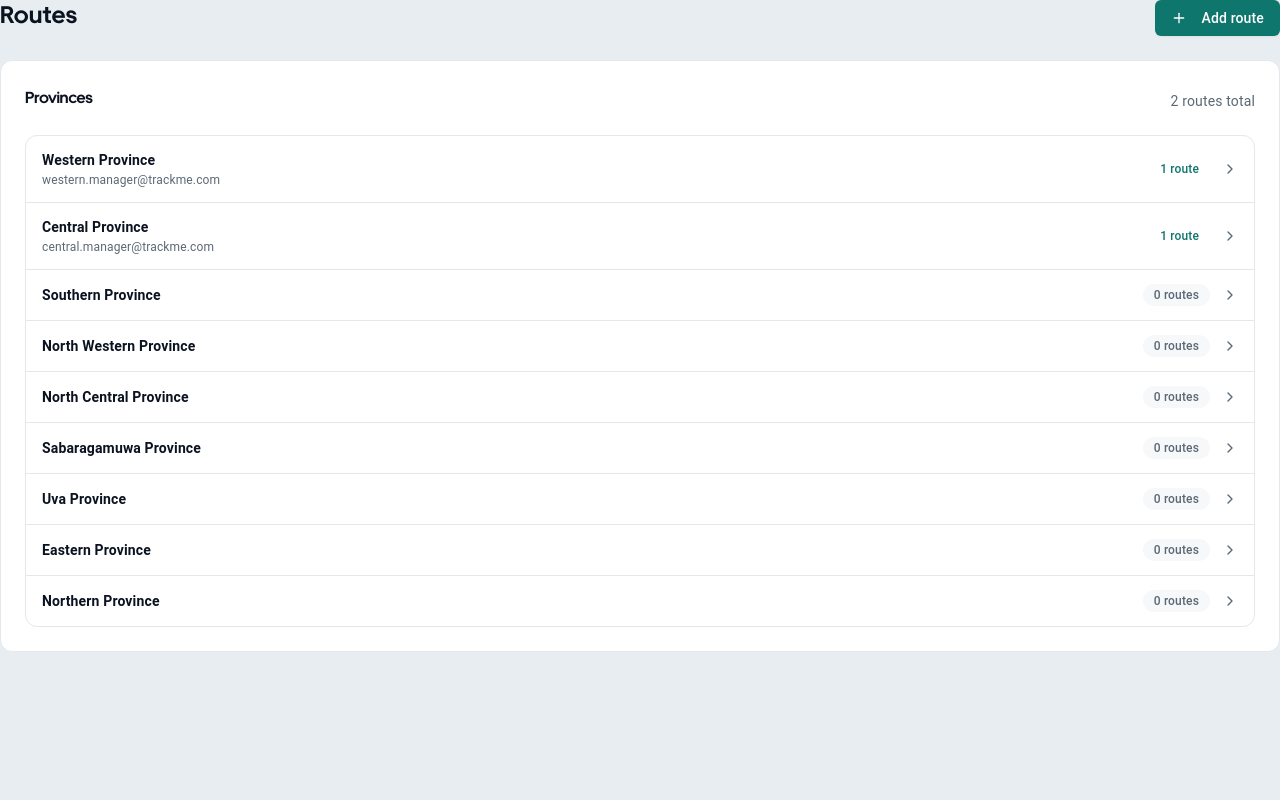
Test case: RoutesPage › validates required fields before submit
The width and height of the screenshot is (1280, 800).
Click the button "Add route": (1218, 18) [1155,0,1279,36]
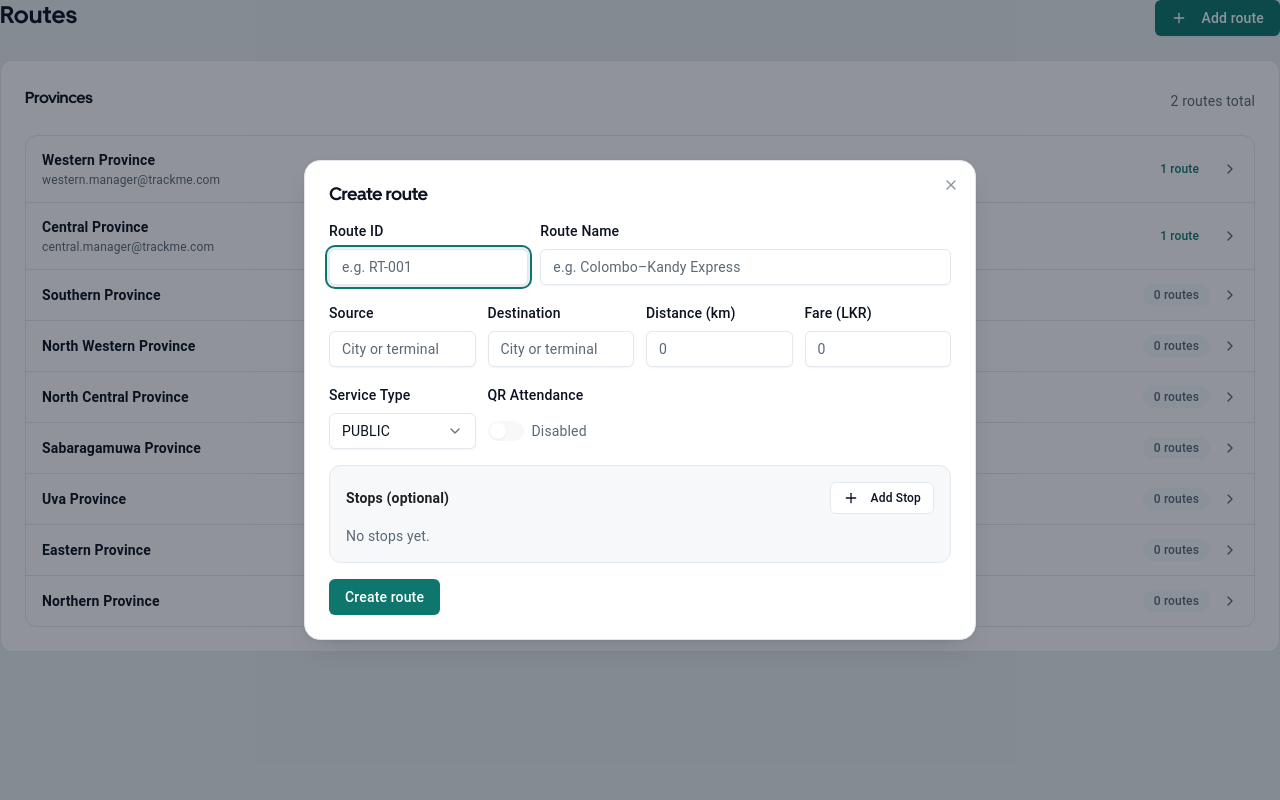
Check: the dialog is shown, box [304,160,976,640]
Click the button "Create route": (385, 597) [329,579,440,615]
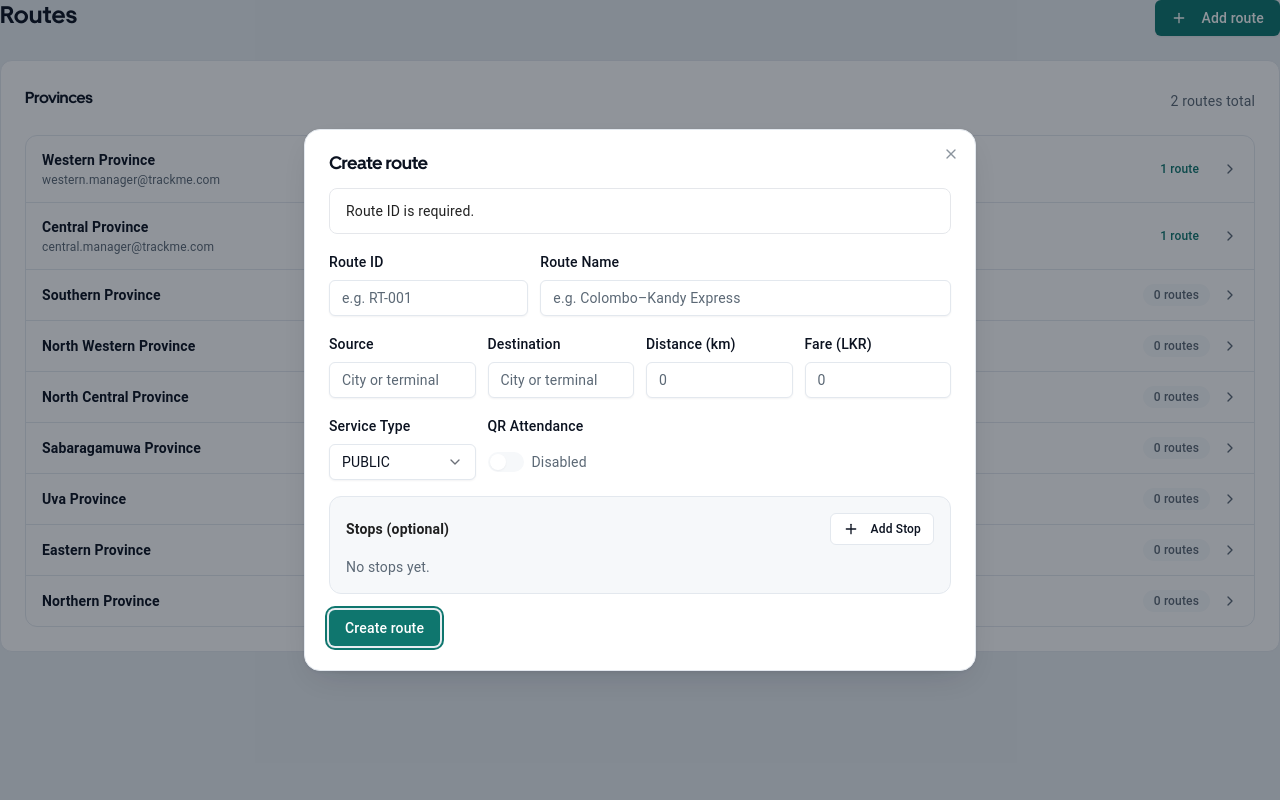
Check: the text "Route ID is required." is shown, box [346,203,474,219]
